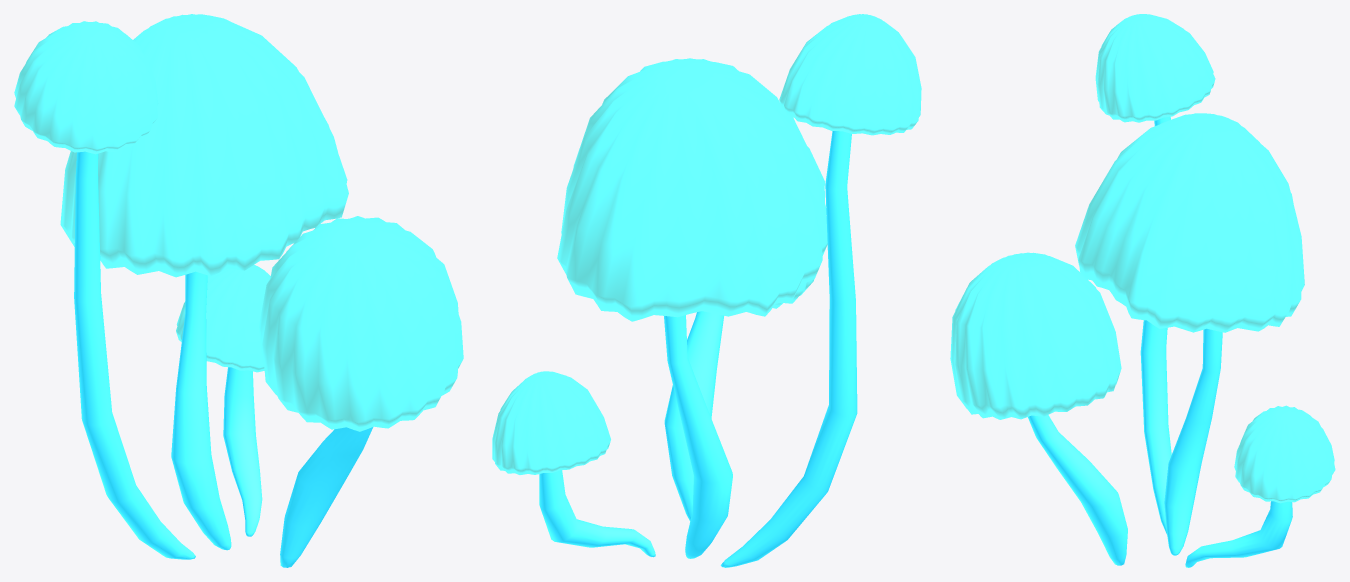
Rendered from mushroom_set.fbx.
The picture shows the model from 3 angles, left to right: view 1: azimuth 30°, elevation 25°; view 2: azimuth 150°, elevation 25°; view 3: azimuth 270°, elevation 25°; orthographic projection. The views are drawn at different scales.
Visible parts, largest first — view 1: hat (×4), stem (×4); view 2: hat (×3), stem (×4); view 3: hat (×4), stem (×4).
Part boxes in pixels (<box>): hat (×4): <box>14,14,463,431</box>; stem (×4): <box>74,151,373,567</box>; hat (×3): <box>492,14,921,474</box>; stem (×4): <box>539,131,857,567</box>; hat (×4): <box>950,14,1335,503</box>; stem (×4): <box>1028,116,1292,567</box>.
Size of the model in its own units: 4.35 by 6.73 by 4.95.
